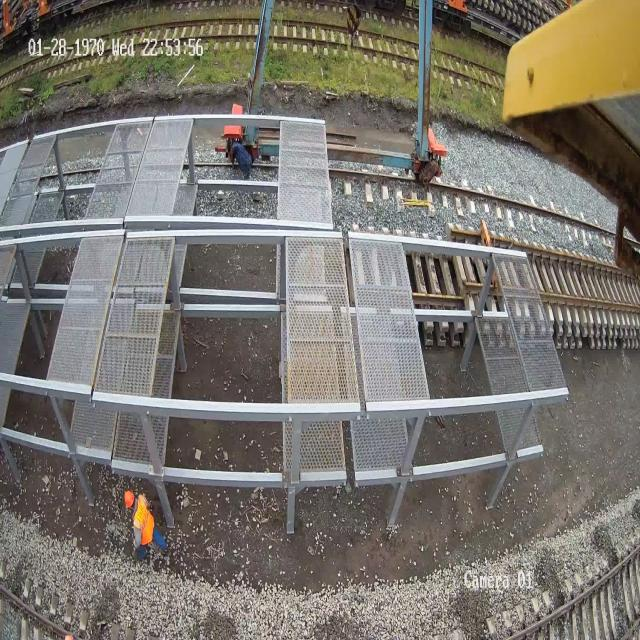Helmet: (124, 489, 134, 508)
Person: (124, 489, 168, 560)
